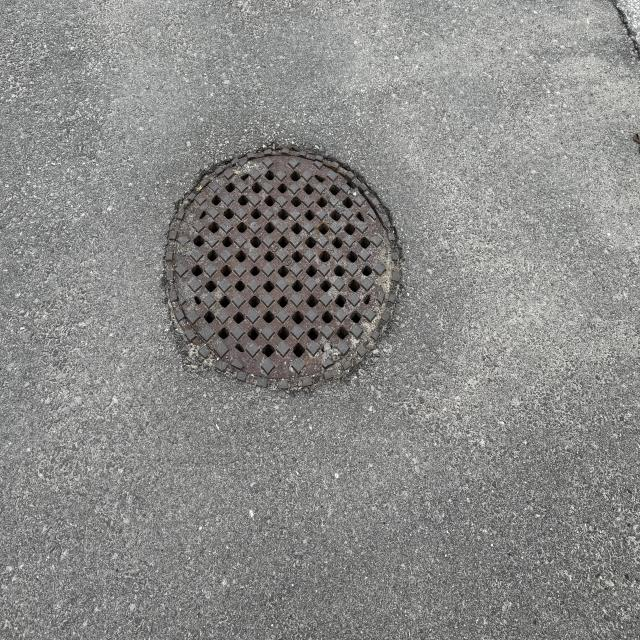Manhole: (163, 142, 405, 399)
